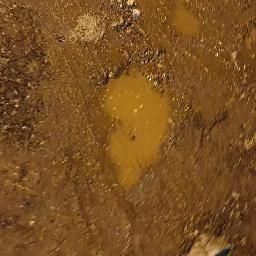water accumulation: (99, 62, 173, 193), (167, 0, 202, 36)
